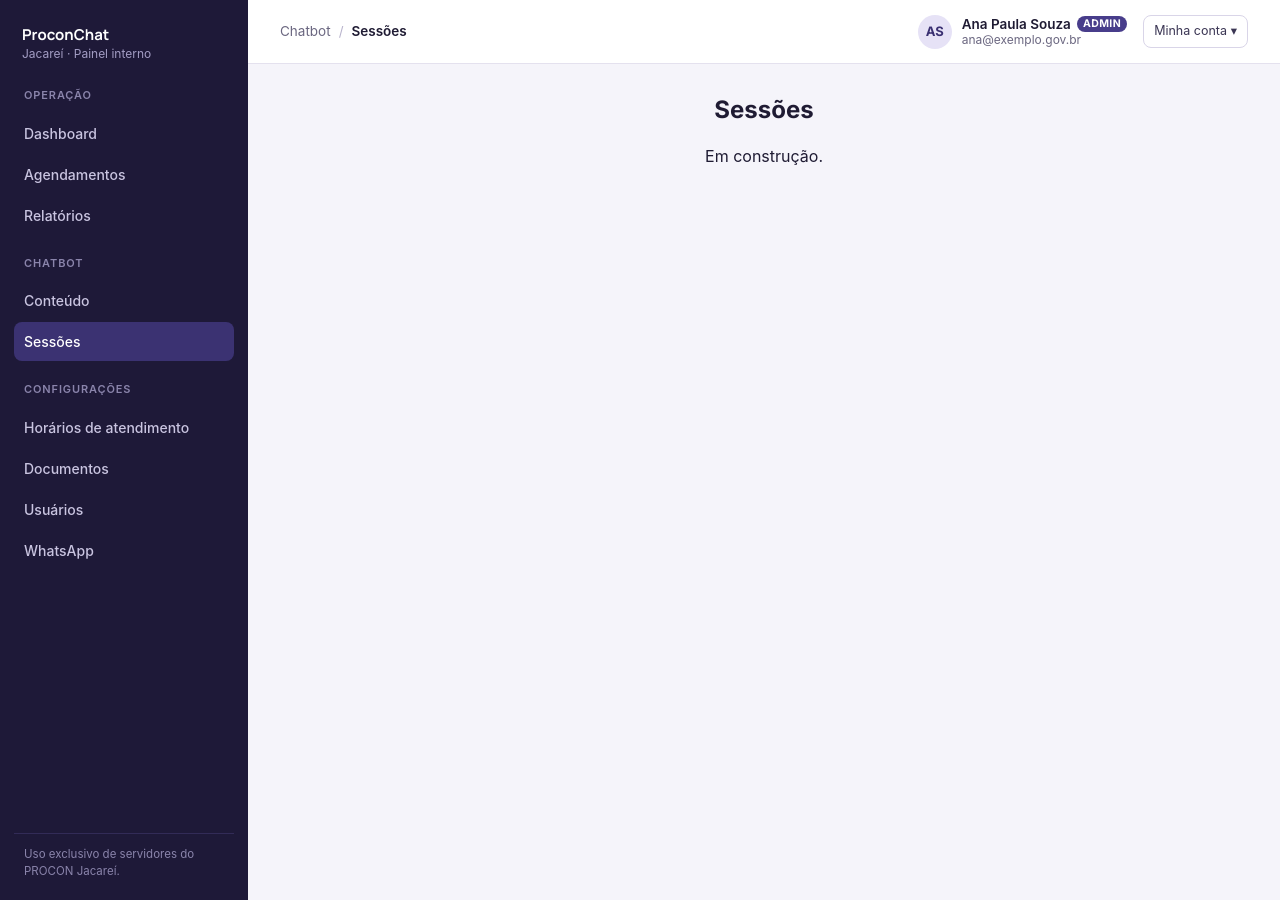
Test: PanelLayout › abre o modal de senha pelo menu da conta com o e-mail da conta
Expected: the text "Em construção." is shown, [705,144,823,168]
Click the button "Minha conta": point(1196, 32) [1143,15,1248,48]
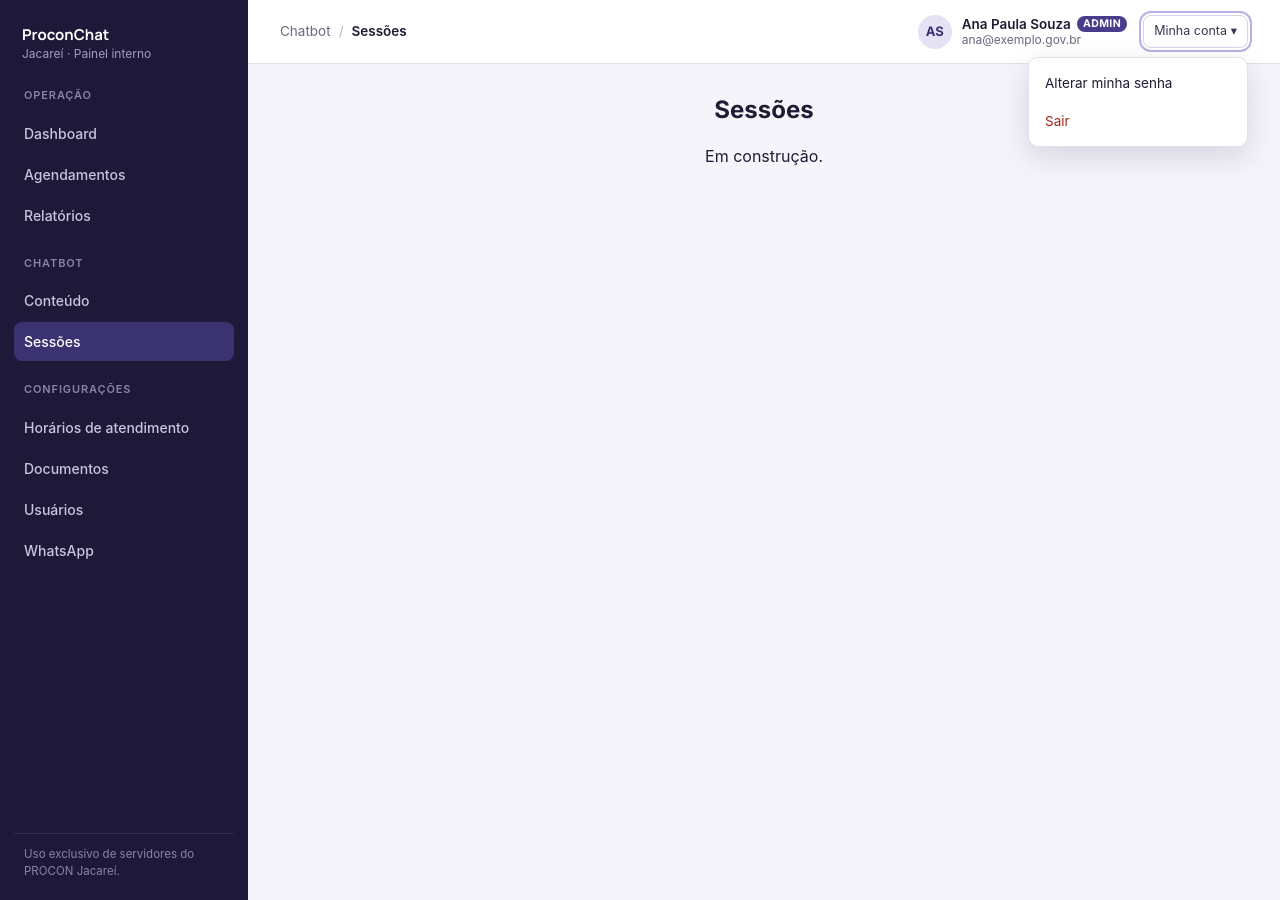
Click the button "Alterar minha senha": point(1138, 83) [1035,64,1241,102]
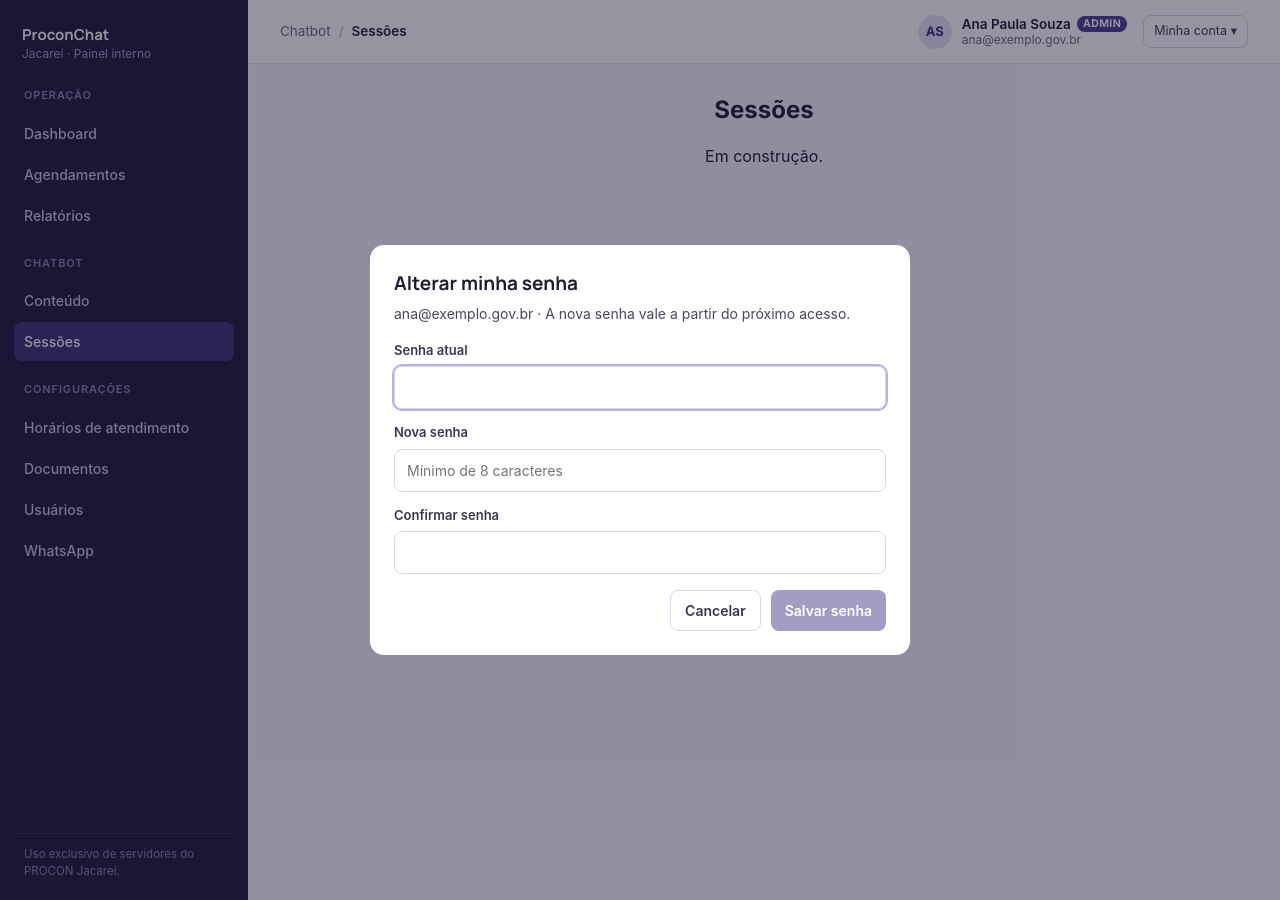
Expected: the dialog "Alterar minha senha" is shown, [370,245,910,655]
Expected: the text "ana@exemplo.gov.br · A nova senha vale a partir do próximo acesso." is shown, [394,303,886,325]
